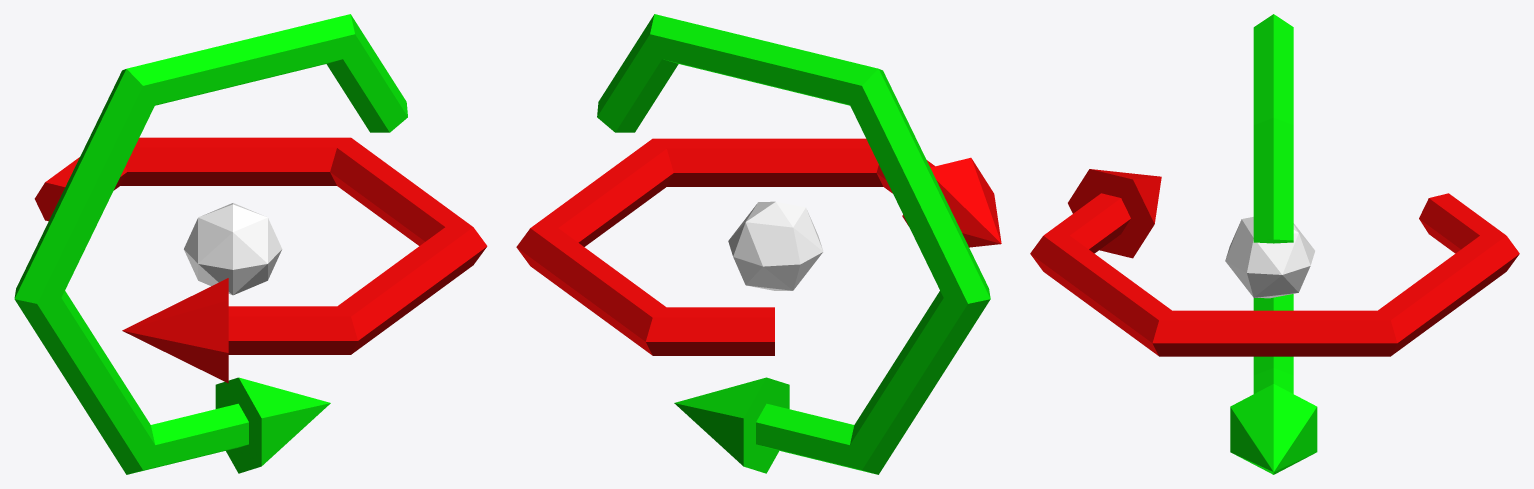
Rendered from Rotate.fbx.
The picture shows the model from 3 angles, left to right: view 1: azimuth 30°, elevation 25°; view 2: azimuth 150°, elevation 25°; view 3: azimuth 270°, elevation 25°; orthographic projection. The views are drawn at different scales.
Visible parts, largest first — view 1: Group2, Group3, Group4; view 2: Group2, Group3, Group4; view 3: Group3, Group2, Group4.
Part boxes in pixels (x1,y1,x2,y2): Group2: (14, 14, 407, 474); Group3: (34, 137, 487, 383); Group4: (184, 203, 282, 295); Group2: (597, 14, 990, 474); Group3: (516, 138, 1001, 355); Group4: (728, 201, 823, 290); Group3: (1030, 169, 1519, 356); Group2: (1230, 14, 1317, 474); Group4: (1225, 217, 1314, 298).
Bounding box in the file's own units: 1.94 × 1.96 × 2.13.
